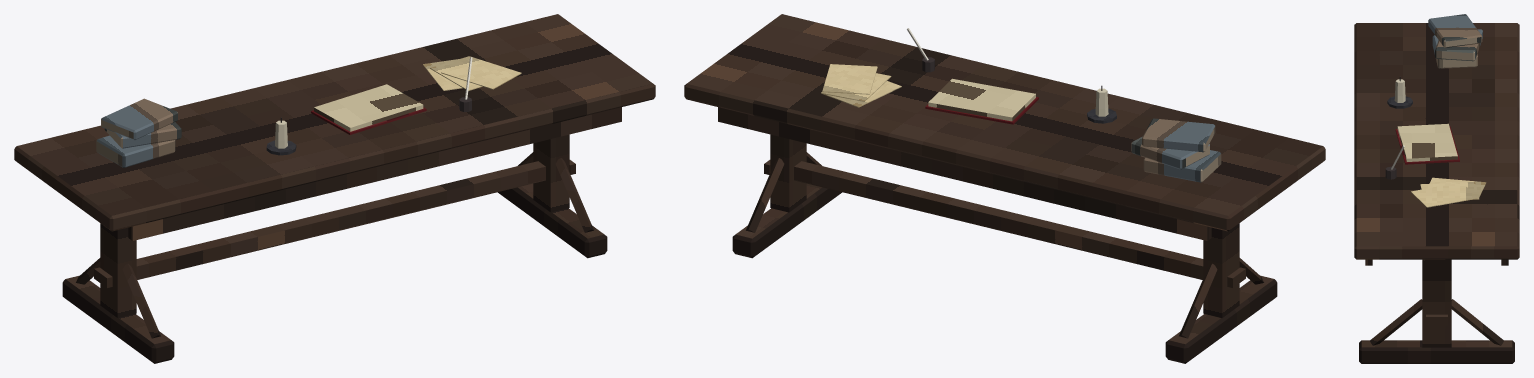
The model's file is long_table_off.obj.
The picture shows the model from 3 angles, left to right: view 1: azimuth 30°, elevation 25°; view 2: azimuth 150°, elevation 25°; view 3: azimuth 270°, elevation 25°; orthographic projection. The views are drawn at different scales.
Visible parts, largest first — view 1: long_table; view 2: long_table; view 3: long_table.
Part boxes in pixels (<box>): long_table: <box>14,14,655,363</box>; long_table: <box>684,14,1325,363</box>; long_table: <box>1354,14,1519,363</box>.
Bounding box in the file's own units: 2.9 × 1.04 × 0.9.
